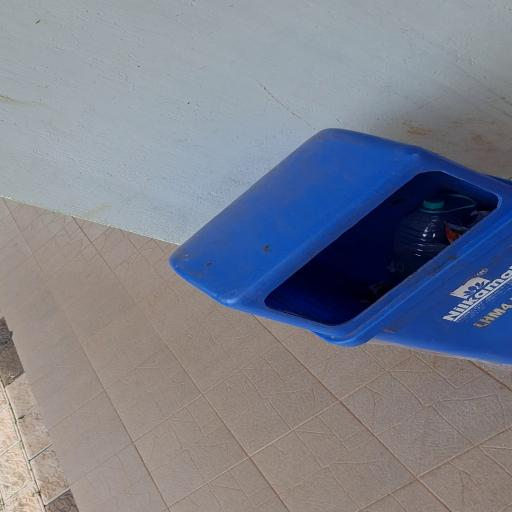Nilkamal-dustbin-detection: (171, 129, 512, 363), (376, 117, 505, 173), (398, 330, 512, 363), (171, 253, 218, 299), (372, 331, 396, 343)
